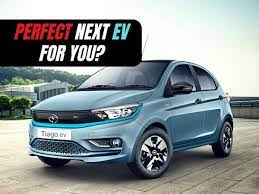Tiago: (26, 58, 236, 180)
